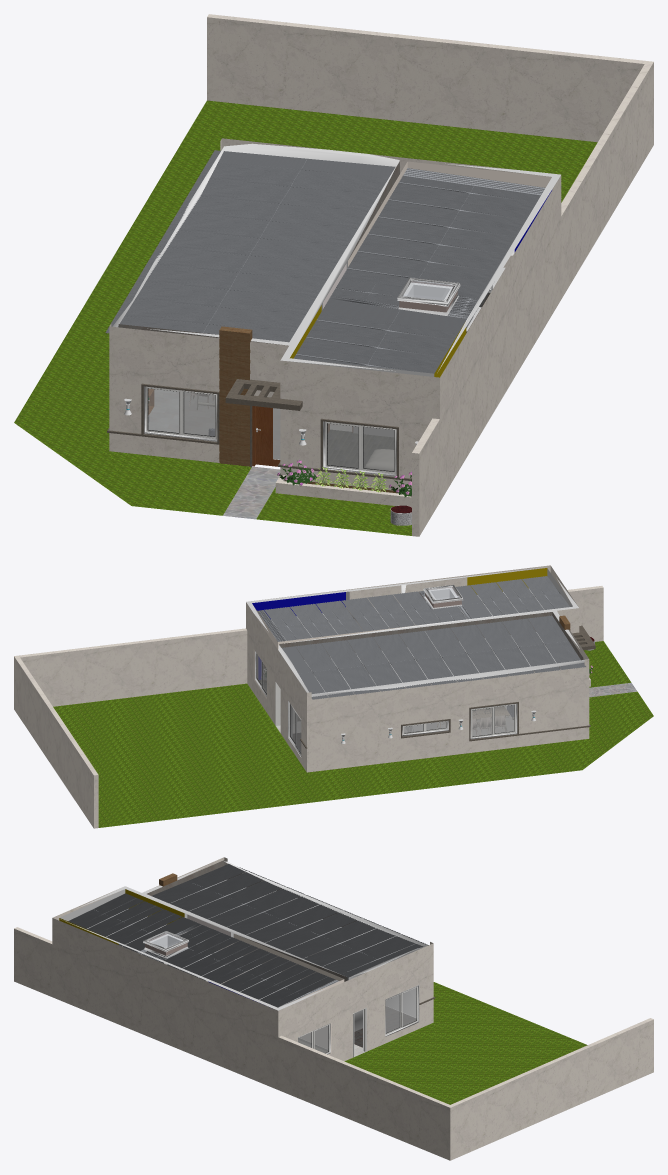
File: modelo.glb
3 views of the same model, one above another, from view 1: azimuth 30°, elevation 25°; view 2: azimuth 150°, elevation 25°; view 3: azimuth 270°, elevation 25° (orthographic). The views are drawn at different scales.
Visible parts, largest first — view 1: casa; view 2: casa; view 3: casa.
Boxes of the visible parts, x1,y1,x2,y2 form: casa: [14, 14, 653, 536]; casa: [14, 565, 653, 828]; casa: [14, 857, 653, 1160].
Size of what is drawn, in the model's own units: 23.08 by 3.87 by 26.29.
Materials: 217 (83 with a texture image).
